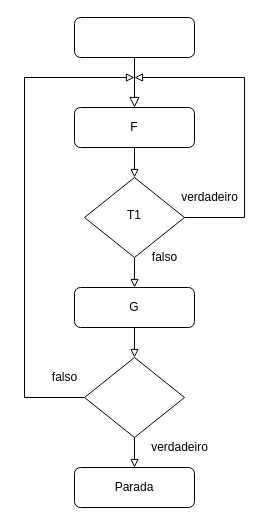
This 270x525 diagram has some shape labels left out. Each missing label, with the centre of its shape:
Partida: the point at 134,37
T2: the point at 134,397
